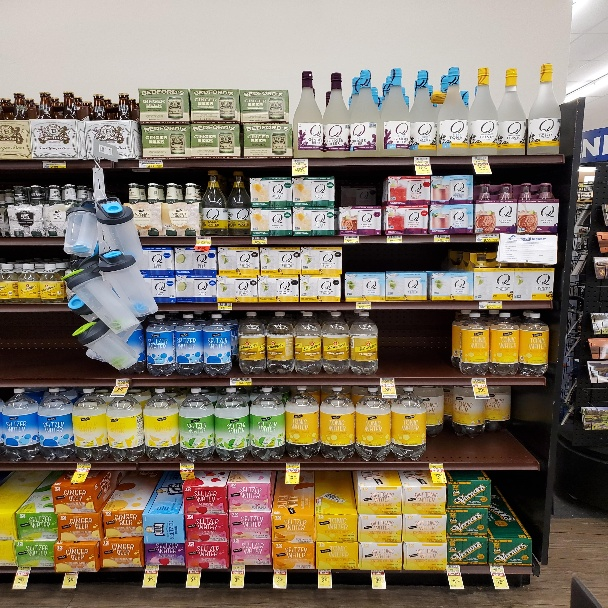All PRICE TAGS: (501, 233, 550, 264), (42, 161, 66, 169), (139, 160, 163, 167), (229, 378, 252, 385), (480, 301, 501, 308), (478, 234, 499, 241), (489, 564, 504, 573), (414, 156, 430, 164), (380, 377, 395, 385), (447, 564, 460, 573), (17, 564, 30, 573), (472, 377, 486, 385), (434, 234, 450, 241), (251, 237, 267, 244), (196, 237, 212, 244), (472, 156, 488, 163), (77, 462, 91, 470), (356, 302, 371, 309), (387, 235, 402, 242), (344, 236, 359, 243), (293, 159, 308, 166), (115, 379, 130, 386), (146, 564, 159, 572), (232, 564, 245, 572), (429, 463, 443, 470), (285, 463, 299, 470), (180, 463, 193, 470), (217, 304, 232, 310)
